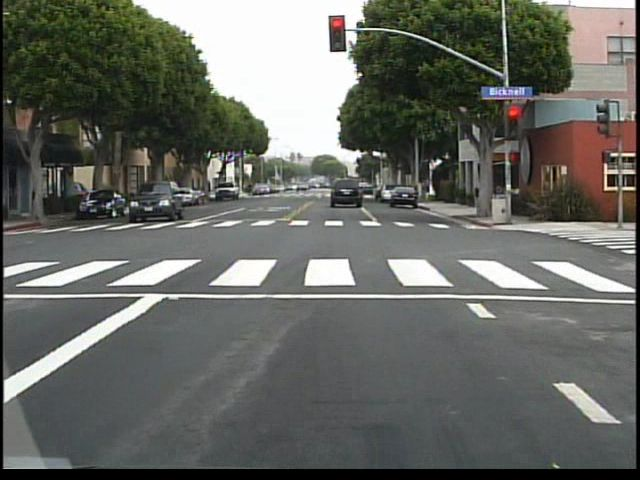car: (128, 181, 184, 220), (327, 174, 368, 207), (77, 188, 122, 215), (390, 180, 415, 210), (213, 180, 238, 199)
striscie pedonali: (7, 259, 619, 292), (5, 216, 484, 234)
